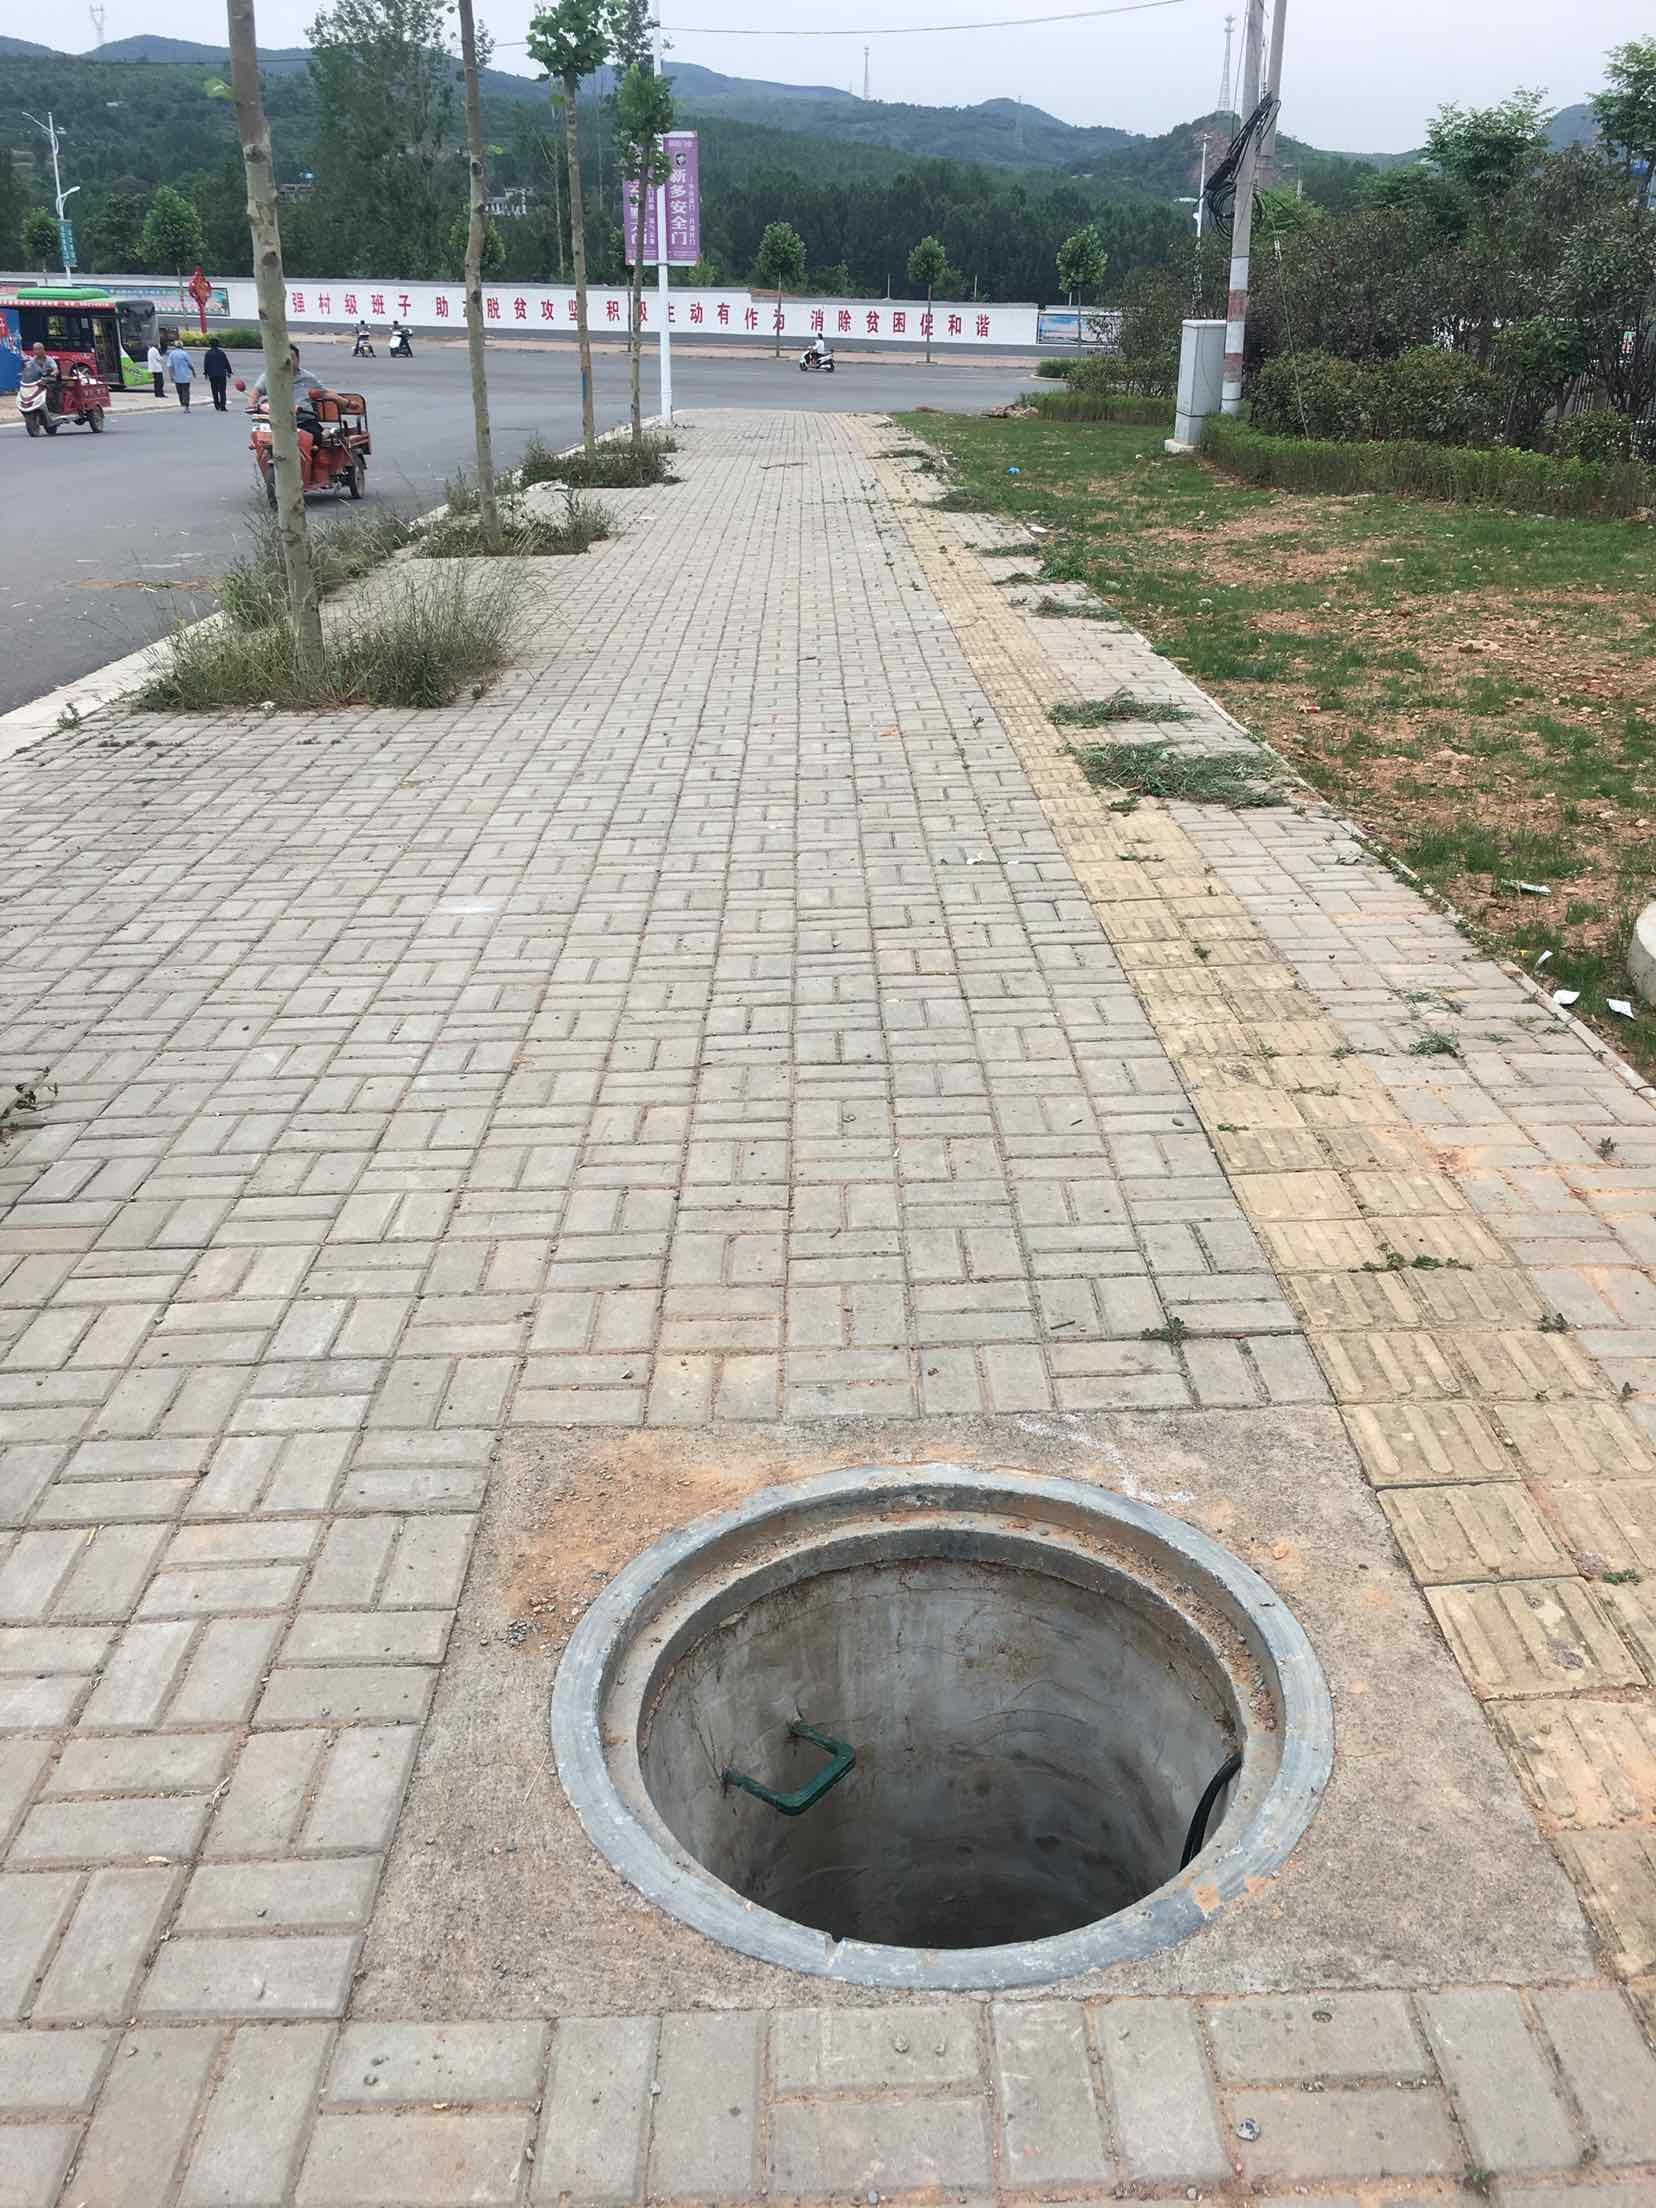wellcover: (492, 1447, 1376, 1991)
